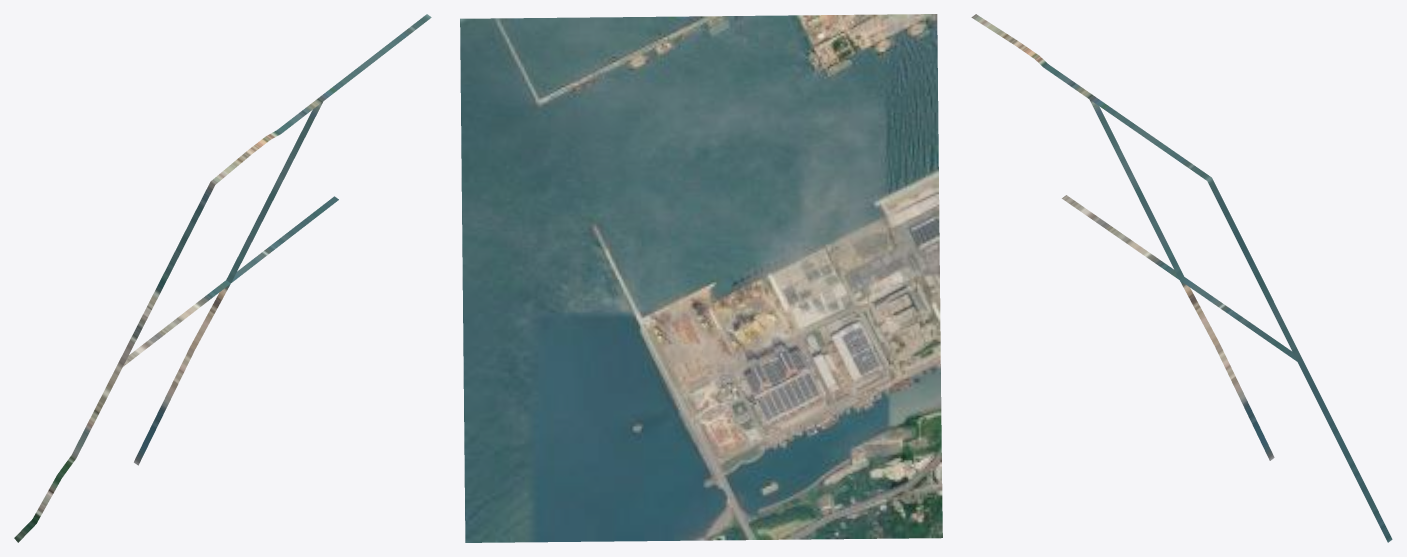
3 views of the same model, side by side, from view 1: azimuth 30°, elevation 25°; view 2: azimuth 150°, elevation 25°; view 3: azimuth 270°, elevation 25° (orthographic). The views are drawn at different scales.
Size of the model in its own units: 2479 by 2222 by 2061.
1 material, 1 textured.
